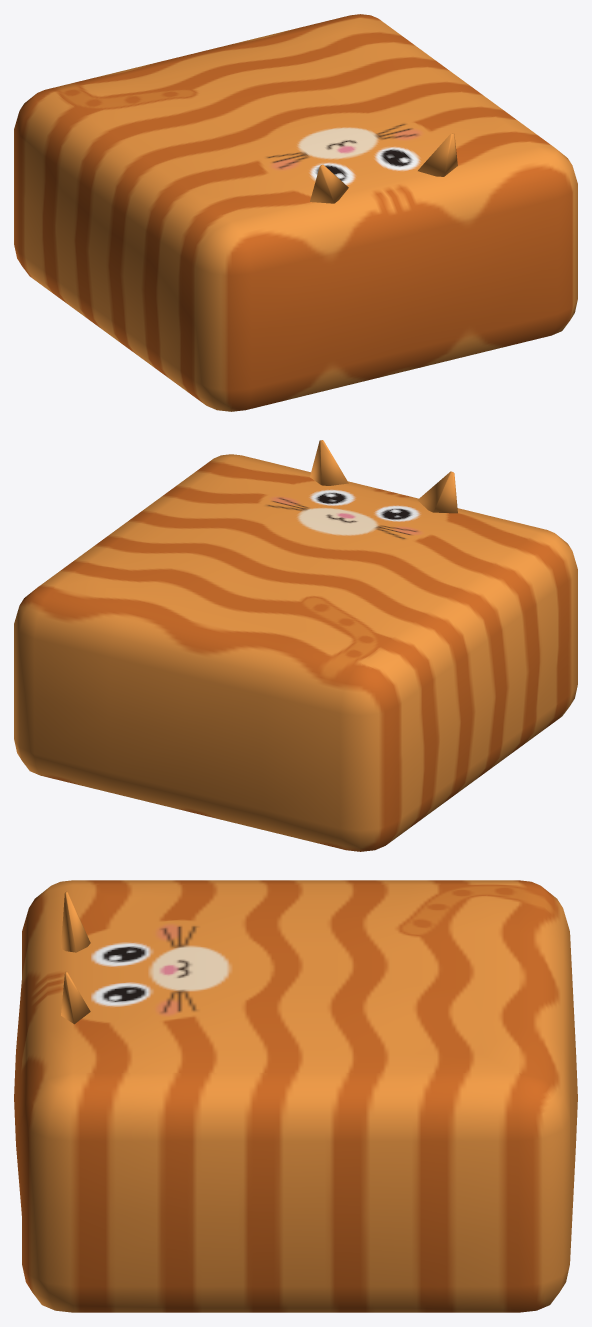
File: Cat_2x2.fbx
3 renders of one model, top to bottom at view 1: azimuth 30°, elevation 25°; view 2: azimuth 150°, elevation 25°; view 3: azimuth 270°, elevation 25°, orthographic. The views are drawn at different scales.
Visible parts, largest first — view 1: Cat_2x2; view 2: Cat_2x2; view 3: Cat_2x2.
Part boxes in pixels (x1,y1,x2,y2): Cat_2x2: (14,14,577,411); Cat_2x2: (14,440,577,851); Cat_2x2: (14,880,577,1312).
Size of the model in its own units: 1.98 by 1.05 by 1.98.
1 material, 1 textured.
